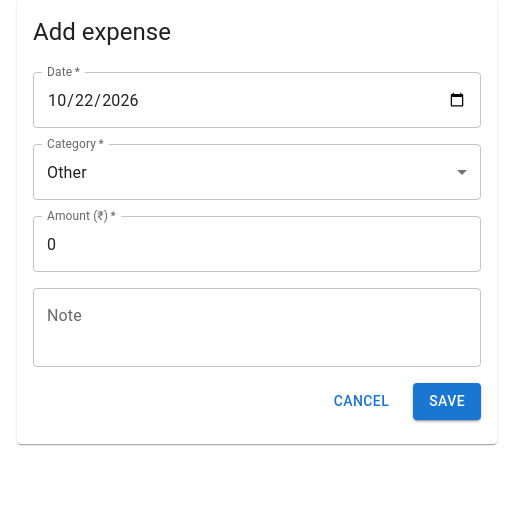
picking category Salary shows the payroll helper
Click the dropdown named "category". click: (67, 172)
box: x1=47 y1=162 x2=87 y2=182
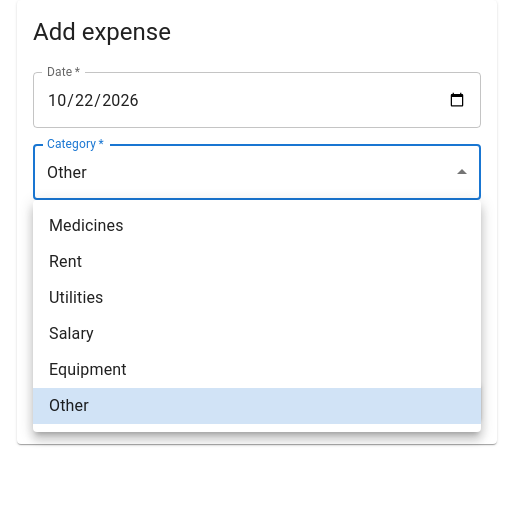
Click the option "Salary". click: (71, 334)
box: x1=49 y1=324 x2=94 y2=343
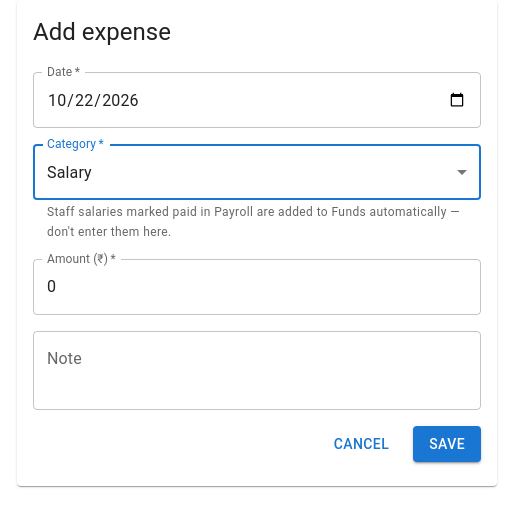
Check: the text "Staff salaries marked paid in Payroll are added to Funds automatically — don't enter them here." is shown, box x1=47 y1=205 x2=460 y2=239
